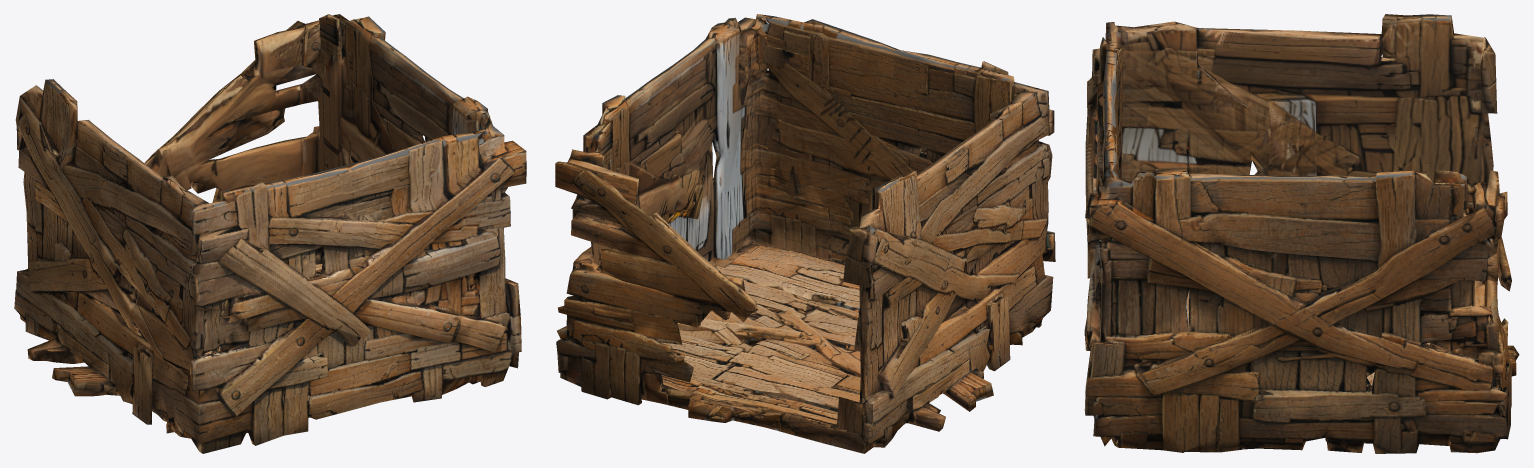
File: Settle_Patch_ReinforcedWood.fbx
3 renders of one model, left to right at view 1: azimuth 30°, elevation 25°; view 2: azimuth 150°, elevation 25°; view 3: azimuth 270°, elevation 25°, orthographic. The views are drawn at different scales.
Visible parts, largest first — view 1: texture_mapping; view 2: texture_mapping; view 3: texture_mapping.
Boxes of the visible parts, bbox=[...] form: texture_mapping: bbox=[14, 14, 526, 453]; texture_mapping: bbox=[555, 14, 1055, 453]; texture_mapping: bbox=[1084, 14, 1519, 453].
Size of the model in its own units: 0.9907 by 0.9687 by 0.6905.
1 material, 1 textured.
